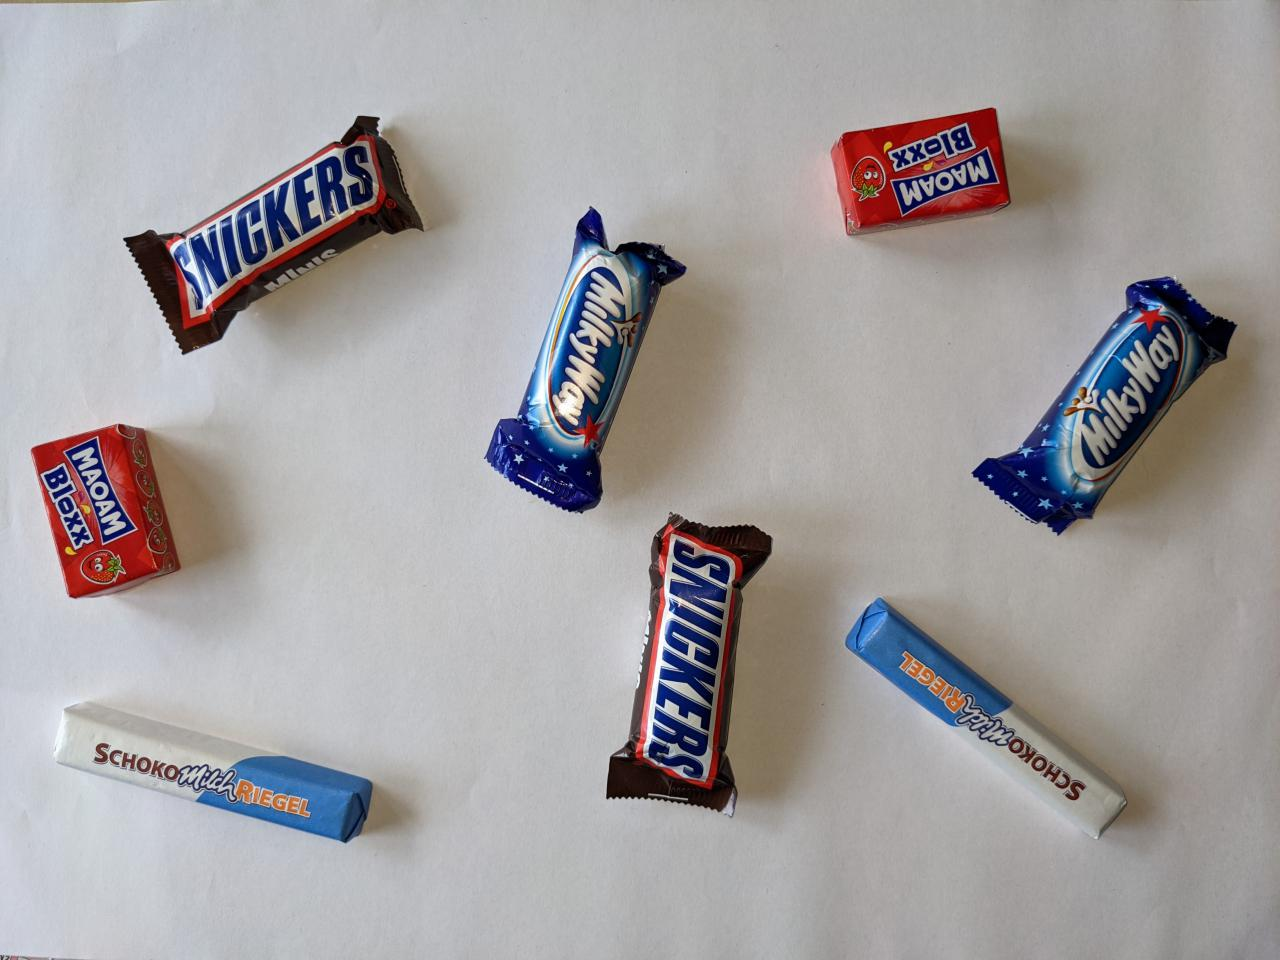MAOAM: (23, 415, 189, 607), (821, 100, 1020, 245)
MilkyWay: (963, 269, 1247, 541), (478, 200, 696, 519)
Schokoriegel: (831, 590, 1135, 848), (47, 693, 380, 850)
Snickers: (118, 105, 434, 361), (601, 503, 780, 825)
